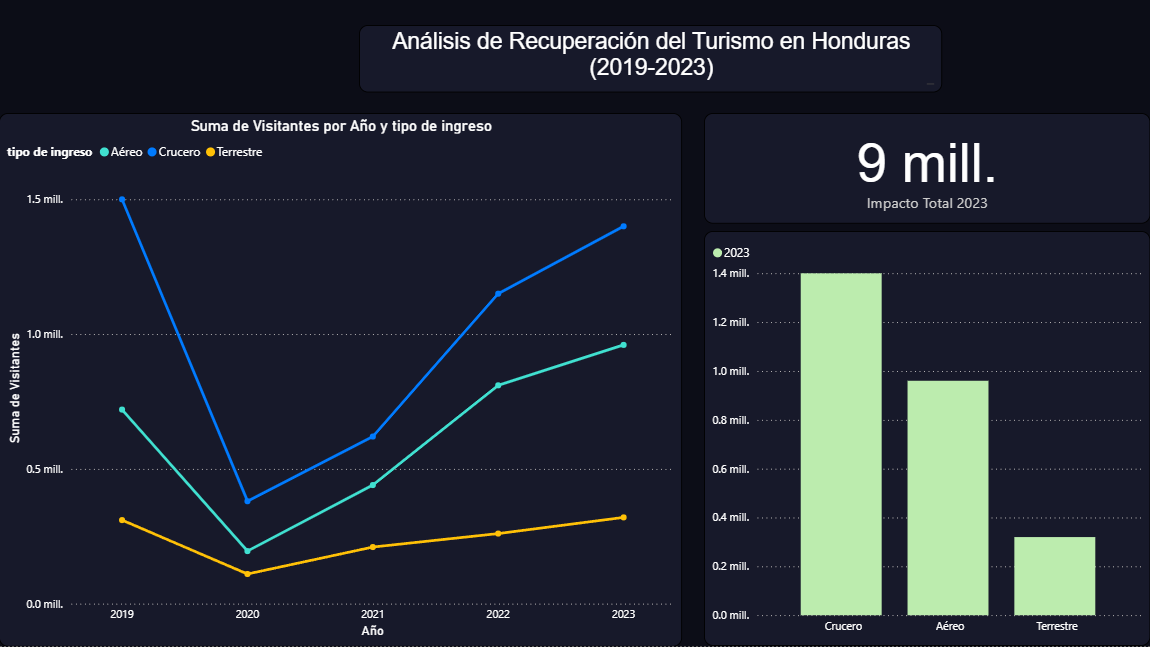

What the dashboard file says about the page in this screenshot:
{"tool":"powerbi","page":{"name":"Informe","canvas":[1280,720],"ordinal":0},"visuals":[{"type":"textbox","title":"Análisis de Recuperación del Turismo en Honduras (2019-2023)","box":[400,30,647.5,75],"z":1000},{"type":"lineChart","fields":{"Y":["Sum(turismo_honduras_ready.Visitantes)"],"Series":["turismo_honduras_ready.Tipo_Ingreso"],"Category":["turismo_honduras_ready.Anio"]},"box":[0,127.5,758.8,592.5],"z":2000},{"type":"card","fields":{"Values":["Sum(turismo_honduras_ready.Visitantes)"]},"box":[783.8,127.5,496.2,122.5],"z":3000},{"type":"columnChart","fields":{"Series":["turismo_honduras_ready.Anio"],"Y":["Sum(turismo_honduras_ready.Visitantes)"],"Category":["turismo_honduras_ready.Tipo_Ingreso"]},"box":[783.8,258.8,496.2,461.2],"z":4000}]}

Visuals, with their boxes in screenshot pixels (x1, y1, x2, y2), scaled from the page's 1280x720 canvas onto the 1150x647 screenshot:
"Análisis de Recuperación del Turismo en Honduras (2019-2023)" textbox: Rect(359, 27, 941, 94)
lineChart - Sum(turismo_honduras_ready.Visitantes) x turismo_honduras_ready.Tipo_Ingreso: Rect(0, 115, 682, 646)
card - Sum(turismo_honduras_ready.Visitantes): Rect(704, 115, 1149, 225)
columnChart - turismo_honduras_ready.Anio x Sum(turismo_honduras_ready.Visitantes): Rect(704, 233, 1149, 646)
